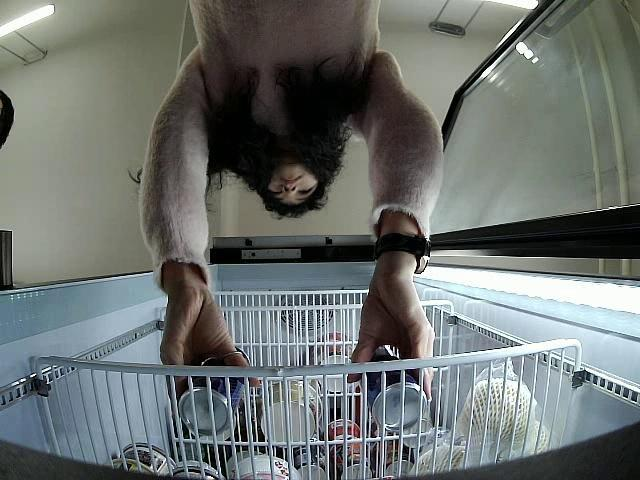16_hot6: (179, 347, 251, 436), (368, 344, 428, 430)
